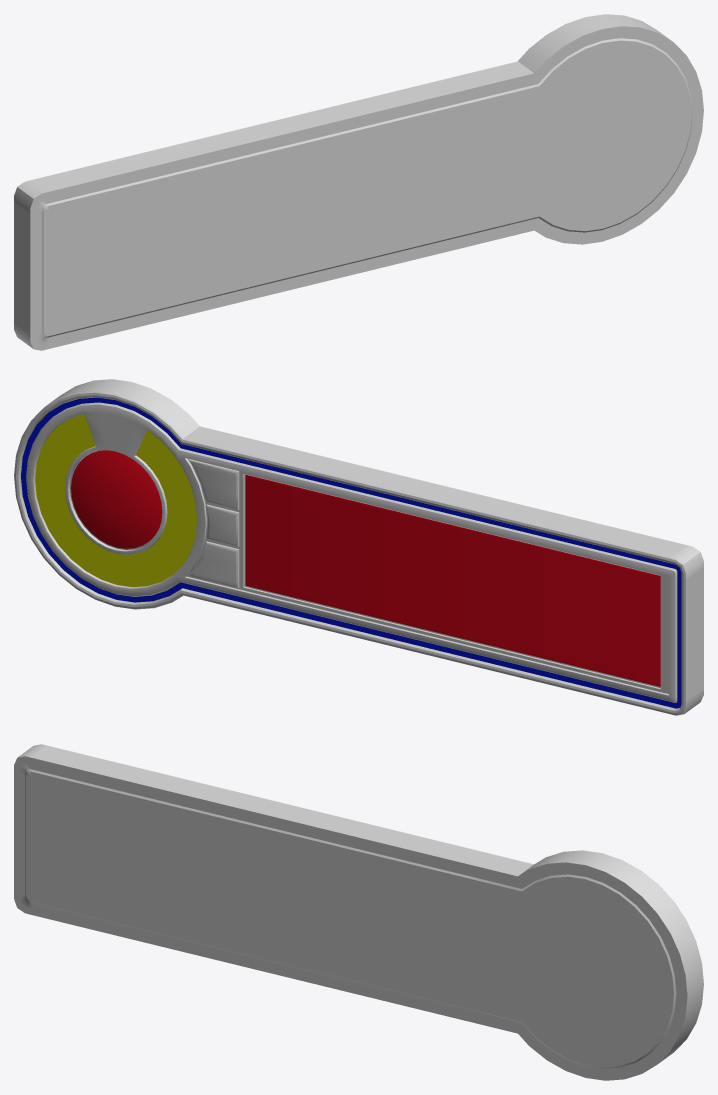
File: uistats.fbx
The picture shows the model from 3 angles, top to bottom: view 1: azimuth 30°, elevation 25°; view 2: azimuth 150°, elevation 25°; view 3: azimuth 330°, elevation 25°; orthographic projection.
Parts seen in each view (by area): view 1: Cube; view 2: Cube; view 3: Cube.
Part boxes in pixels (box(x1,y1,x2,y2)): Cube: box(14, 14, 703, 350); Cube: box(14, 379, 703, 715); Cube: box(14, 744, 703, 1080).
Bounding box in the file's own units: 0.6541 × 0.1975 × 0.0313.
